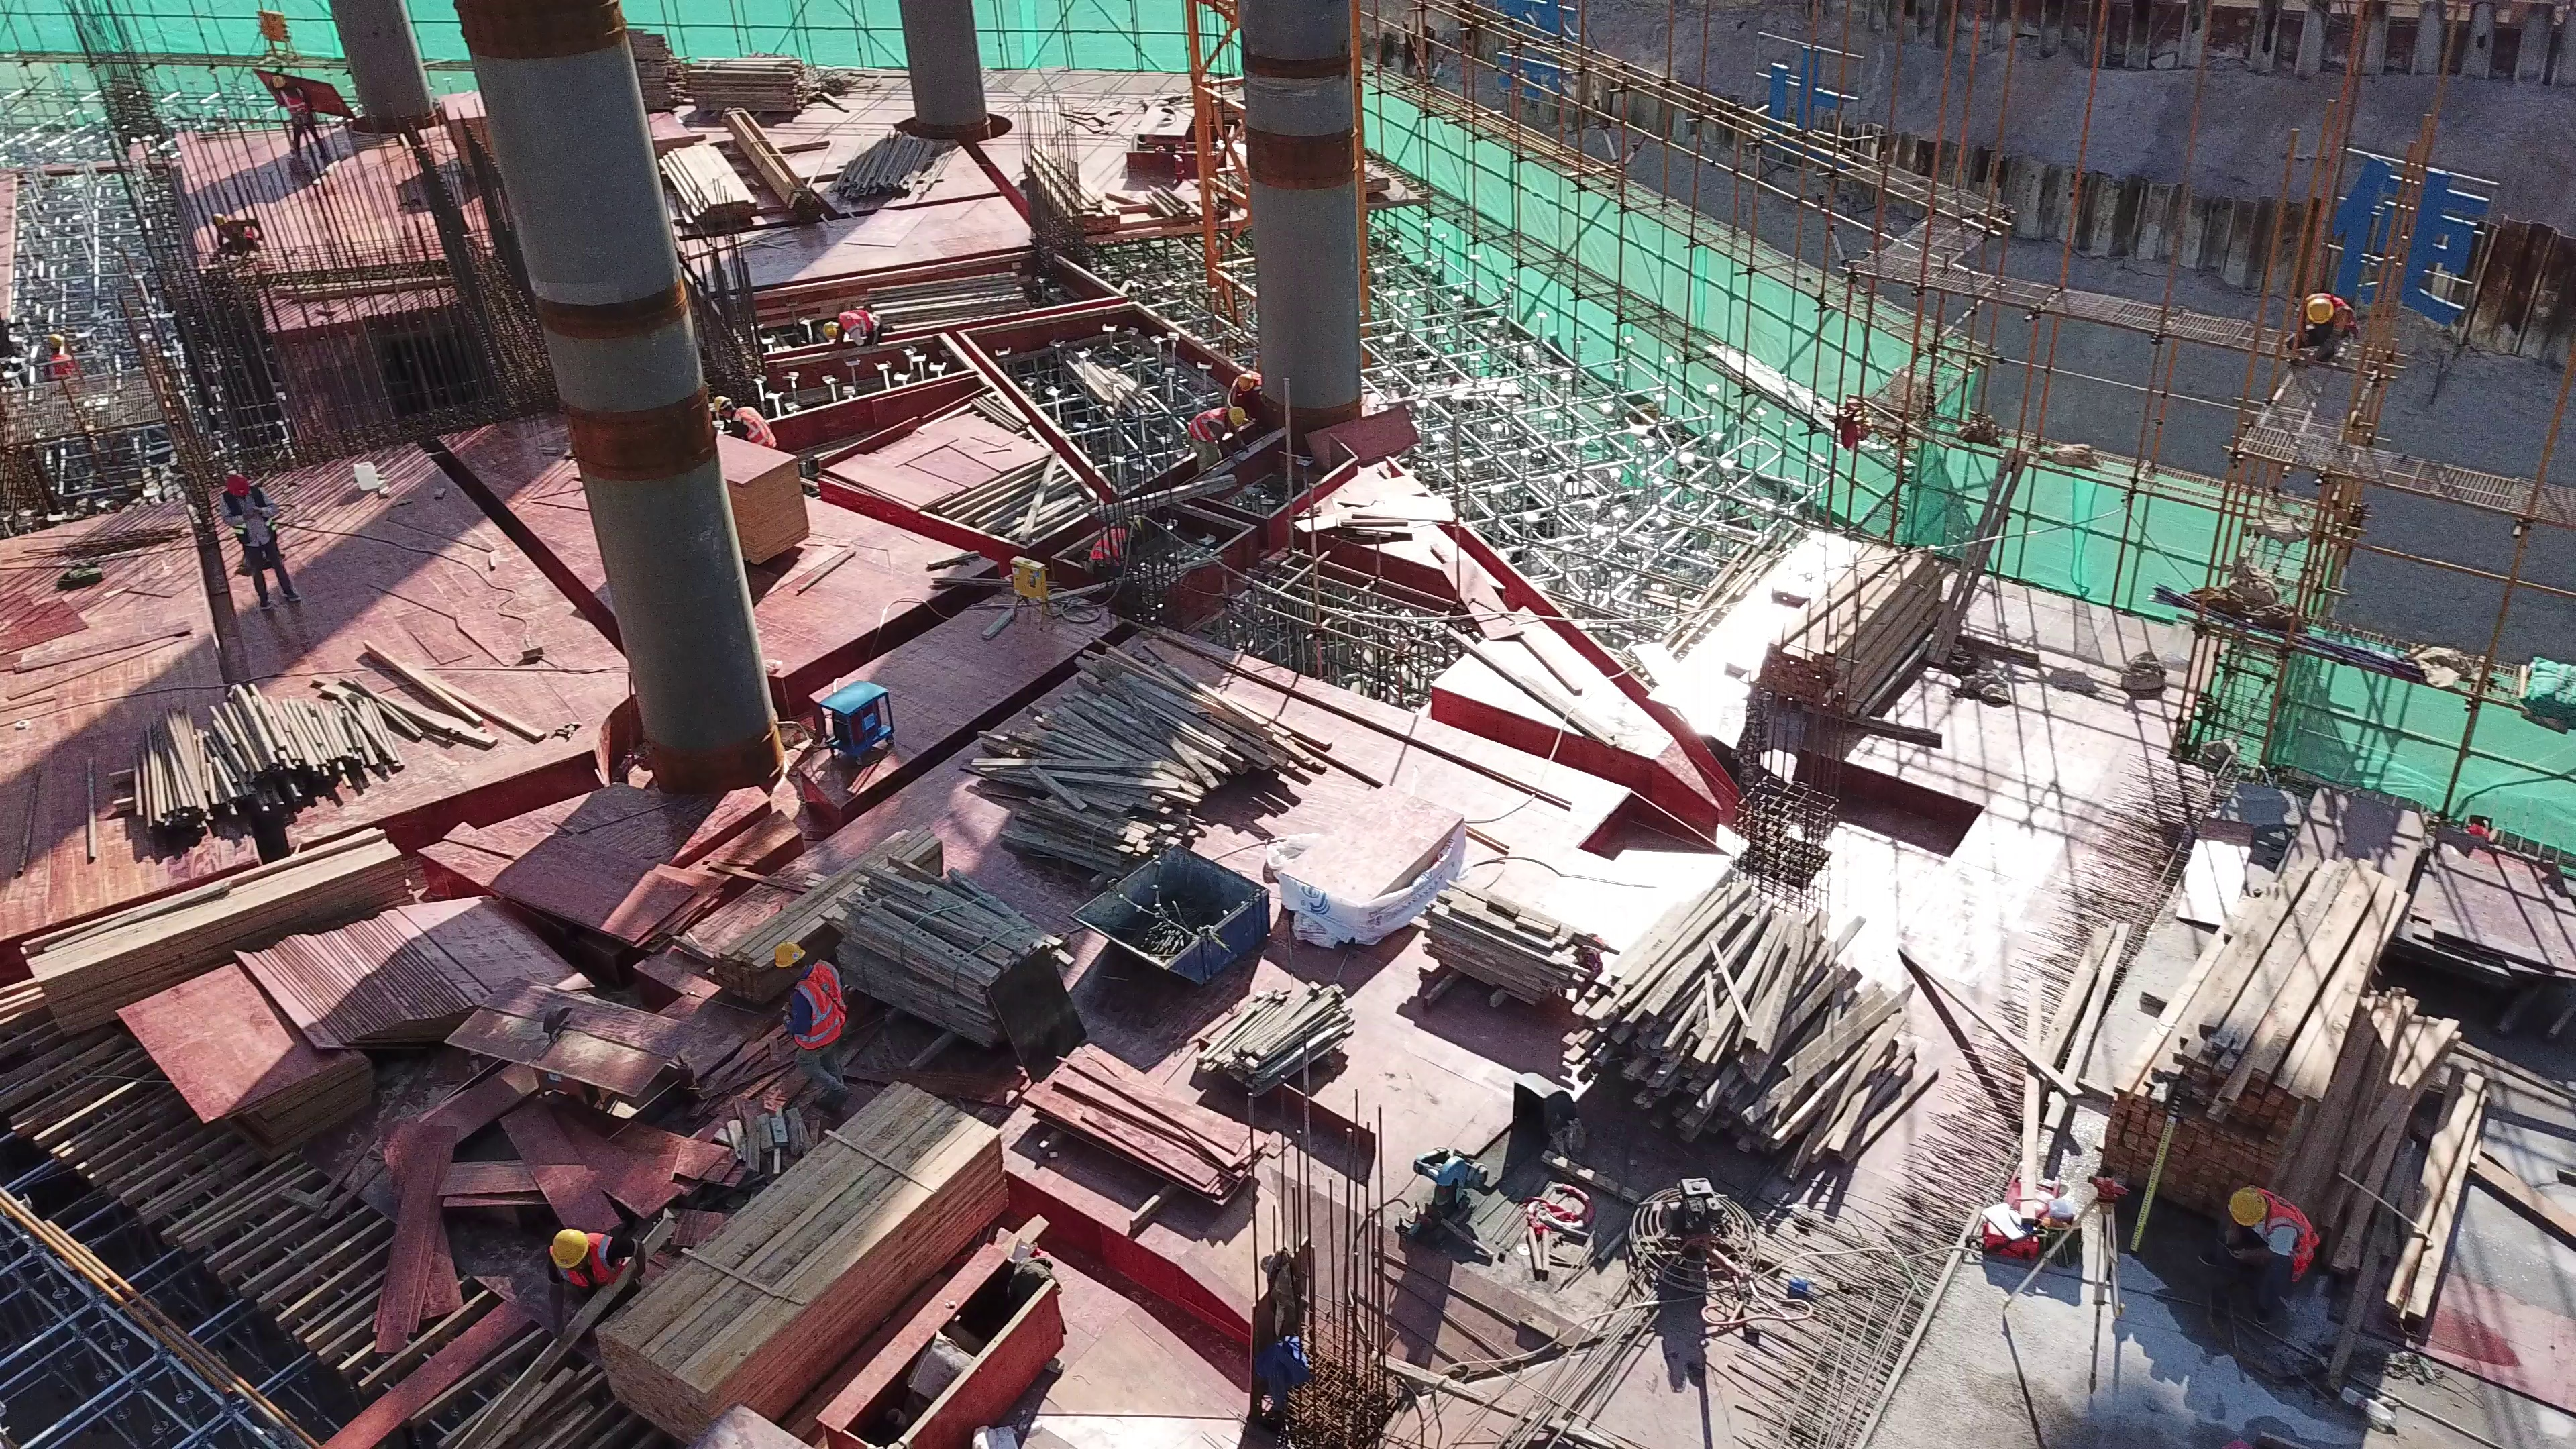board: (248, 896, 596, 1047), (131, 963, 374, 1136), (1020, 1041, 1253, 1210), (722, 441, 812, 557)
cutter: (1398, 1146, 1492, 1262)
ebox: (1009, 555, 1057, 630)
helmet: (550, 1224, 591, 1273), (2224, 1187, 2269, 1228), (773, 943, 808, 970), (2306, 296, 2334, 325), (226, 474, 251, 498), (711, 396, 731, 417), (1236, 372, 1255, 392), (821, 319, 838, 341), (1228, 405, 1245, 427)
hopper: (1069, 844, 1269, 987)
person: (2196, 1186, 2324, 1331), (769, 941, 853, 1114), (220, 473, 303, 610), (543, 1228, 650, 1331), (2283, 290, 2360, 368), (269, 75, 328, 162), (1090, 513, 1149, 576), (1192, 406, 1246, 473), (714, 397, 776, 452), (822, 310, 883, 347), (211, 213, 266, 252), (38, 331, 80, 378), (1228, 371, 1268, 406)
vest: (2264, 1188, 2321, 1285), (791, 959, 846, 1049), (556, 1234, 621, 1289), (229, 486, 273, 544), (729, 407, 777, 449), (1189, 405, 1226, 442), (837, 311, 881, 333)
wood: (2100, 857, 2489, 1329), (596, 1083, 1007, 1444), (1564, 867, 1942, 1181), (970, 633, 1328, 872), (718, 824, 946, 1002), (1758, 542, 1948, 715), (1426, 880, 1592, 1002)
